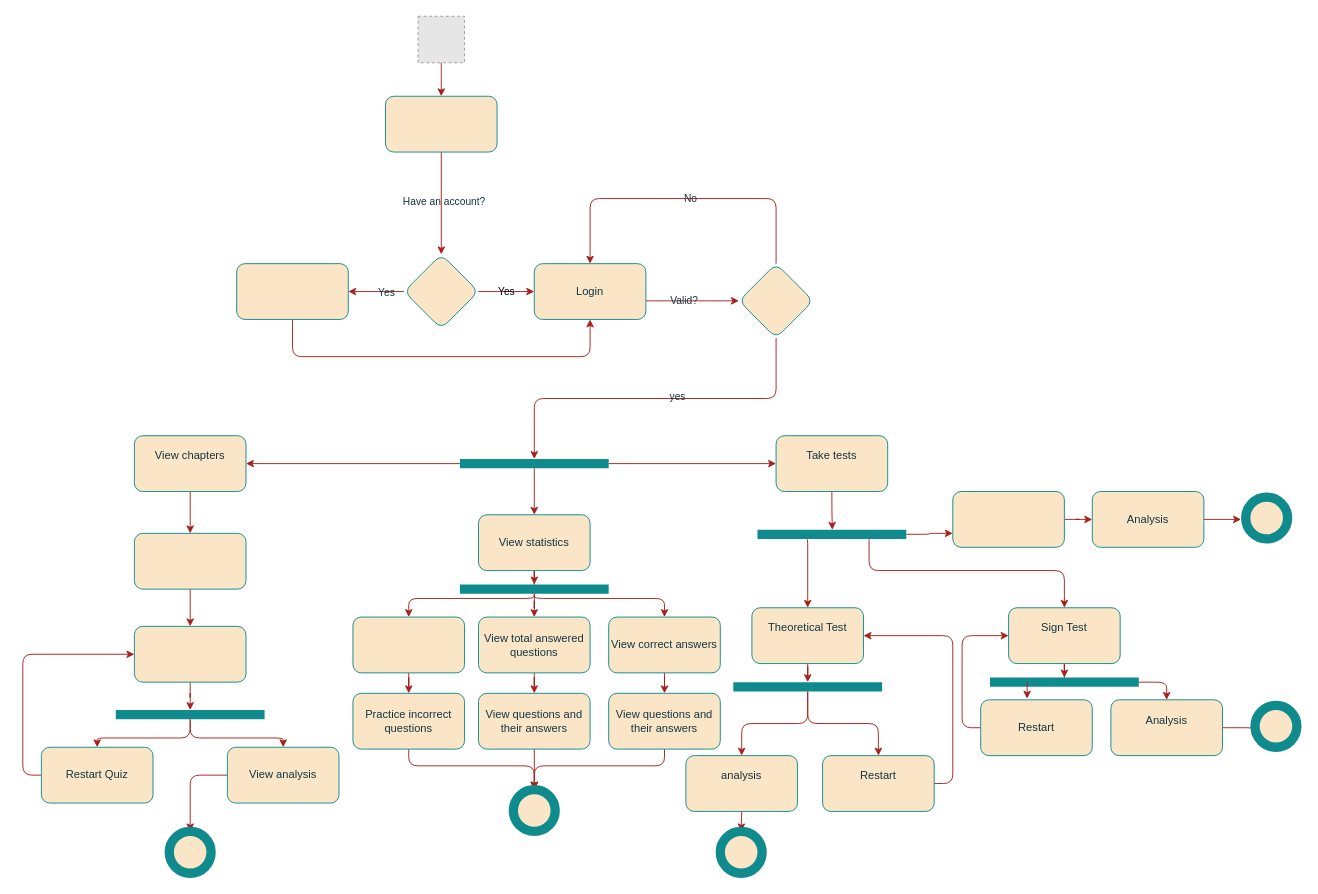
Some shapes in this 1318 by 894 pixel diagram are drawn without their labels. Grey dashed boxes stand in for pictures. The shapes that lost their labels are listed below. From the top down, each one's box as (x1, y1, x2, y2) in pixels, then its label:
(385, 95, 497, 152): Start Registration/Login
(236, 263, 348, 319): Create and account
(952, 491, 1064, 547): Exam simulator
(133, 532, 246, 589): View lessons
(133, 625, 246, 682): Make practice quiz
(352, 616, 465, 673): View incorrect answers
